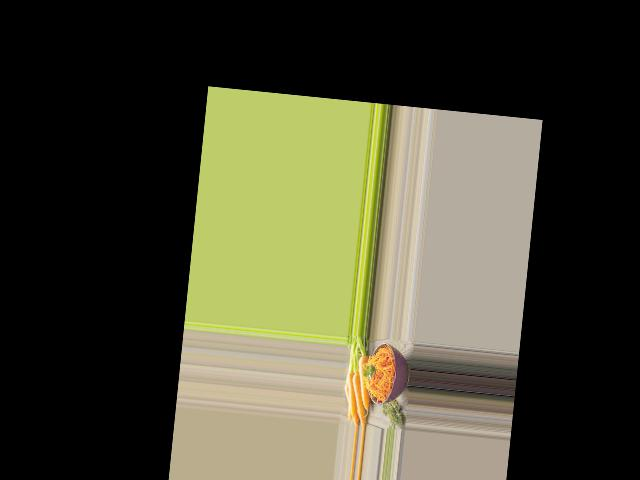carrot: (353, 351, 374, 413)
